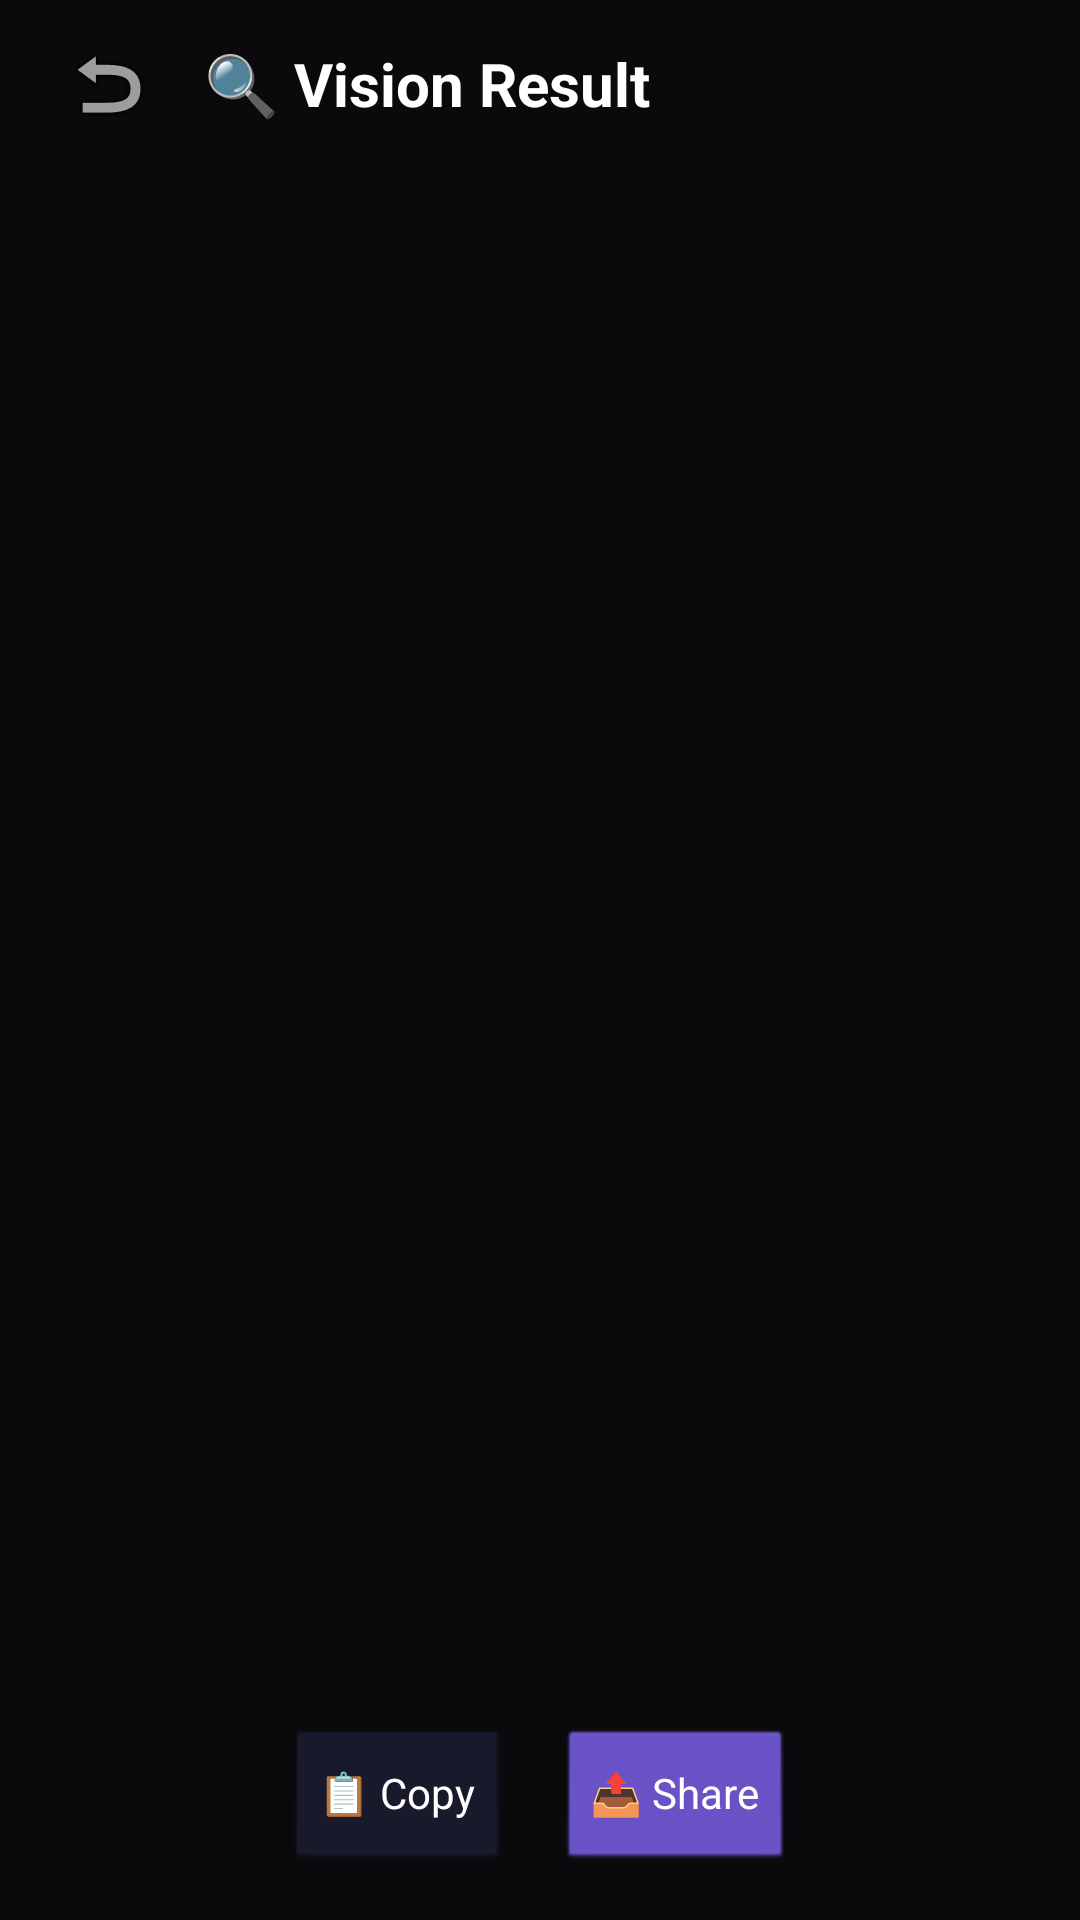

Icon bounding boxes for this 1080w x 1920h phone screenshot, format [left=x1, top=y1, right=x2, bottom=y2]:
revert: [left=78, top=56, right=141, bottom=113]
